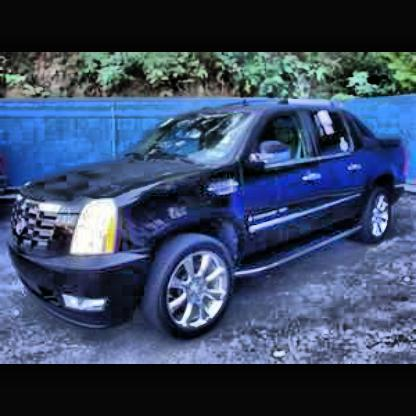Cadillac Escalade EXT Crew Cab 2007: (11, 97, 408, 347)
